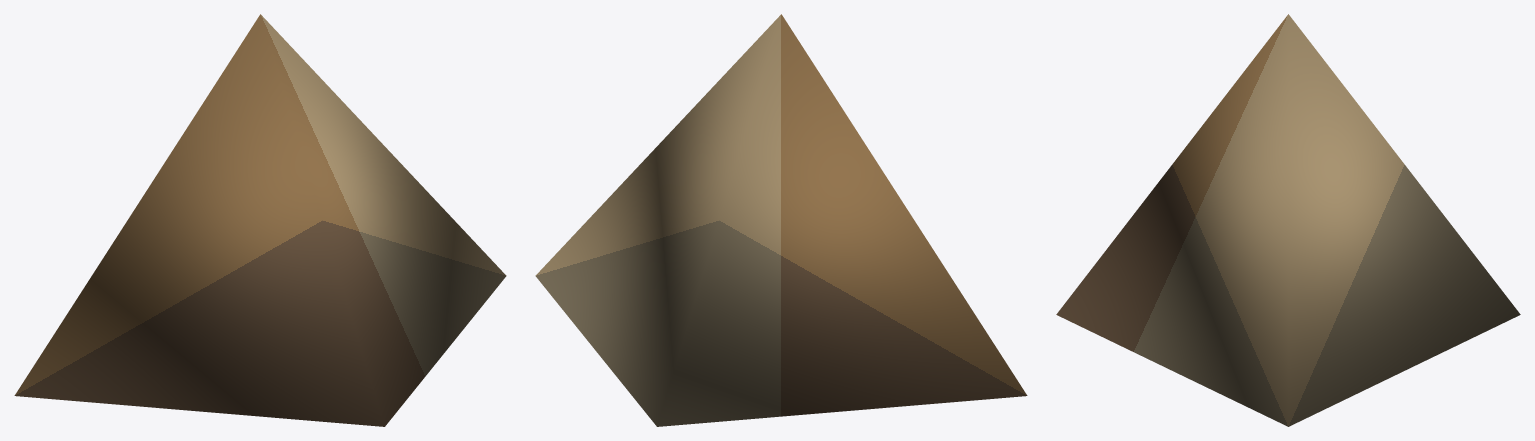
The model's file is rock.glb.
The picture shows the model from 3 angles, left to right: view 1: azimuth 30°, elevation 25°; view 2: azimuth 150°, elevation 25°; view 3: azimuth 270°, elevation 25°; orthographic projection. The views are drawn at different scales.
Bounding box in the file's own units: 32 × 24 × 28.
Materials: 1 (1 with a texture image).
